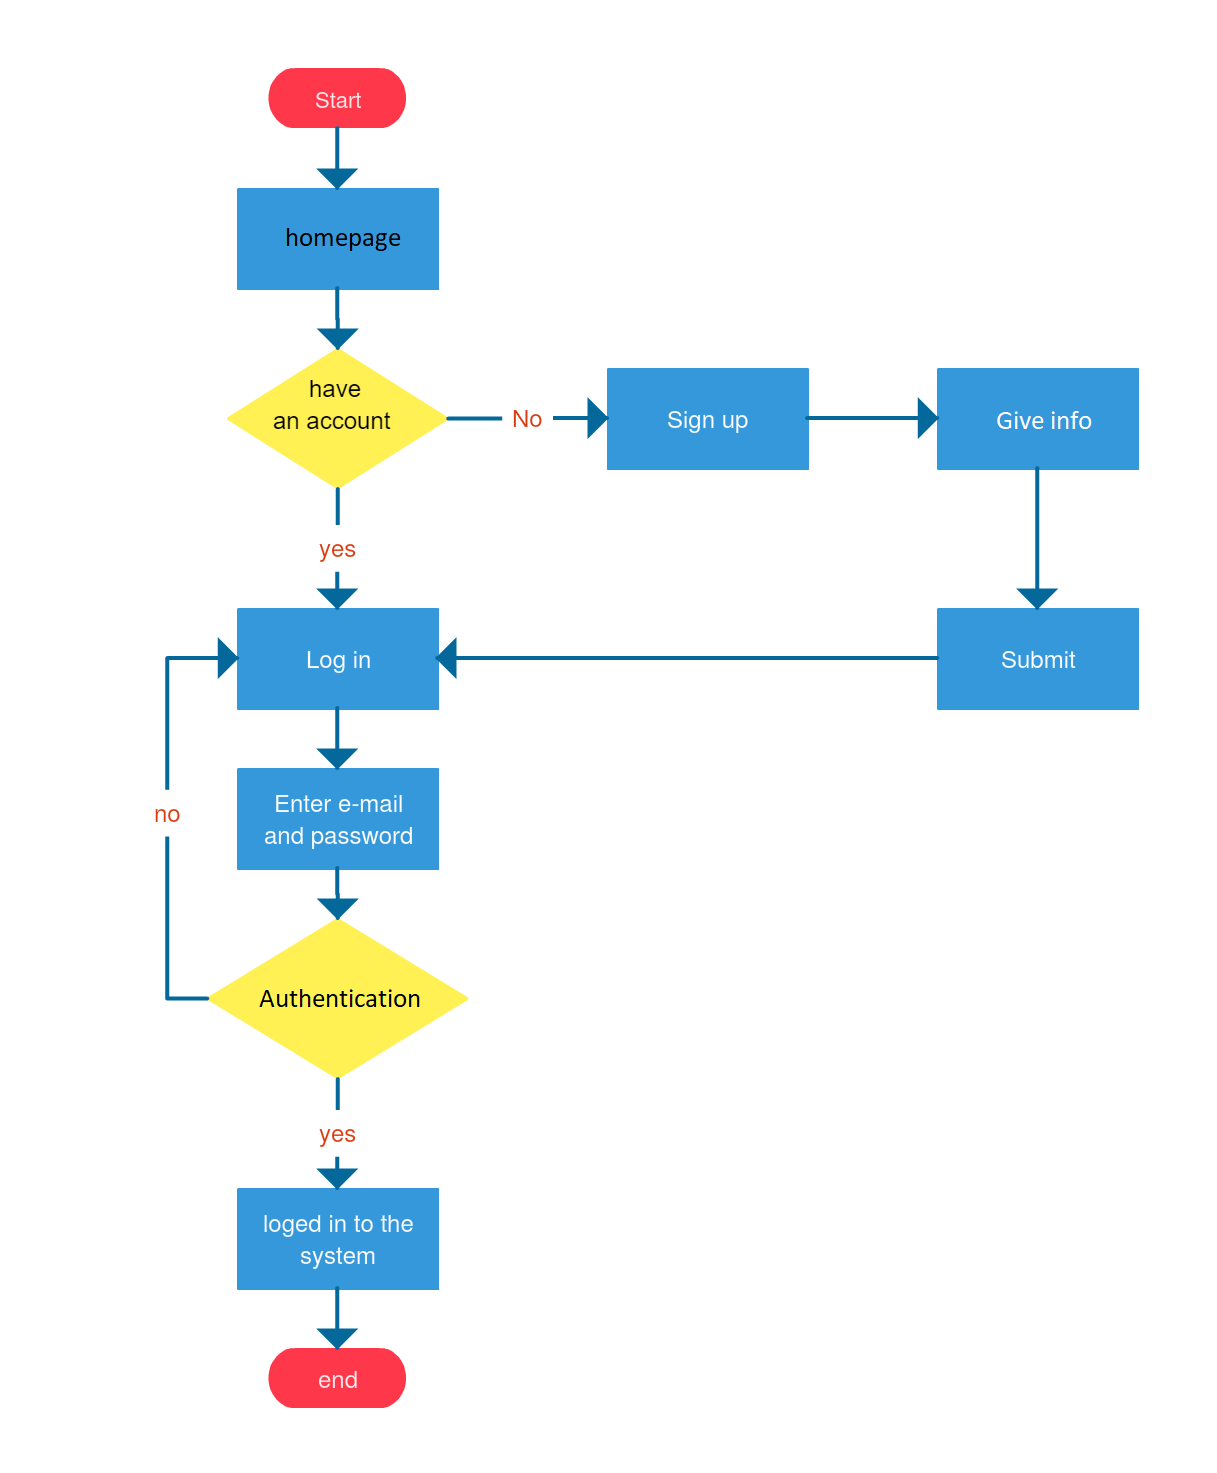arrow: (155, 636, 239, 1004), (432, 626, 941, 681), (439, 393, 614, 443), (807, 393, 950, 445), (1016, 464, 1064, 610), (312, 484, 362, 617), (312, 1075, 364, 1189), (314, 1285, 366, 1352), (314, 699, 362, 770), (316, 279, 362, 350), (312, 128, 364, 188), (314, 866, 362, 925)
decision: (205, 914, 473, 1084), (225, 345, 455, 493)
process: (601, 361, 819, 477), (232, 1179, 444, 1296), (232, 602, 446, 716), (930, 602, 1144, 716), (232, 184, 444, 299), (932, 361, 1144, 475), (232, 763, 446, 875)
terminator: (264, 61, 409, 135), (264, 1345, 412, 1415)
text: (259, 785, 420, 852), (259, 1209, 421, 1270), (272, 373, 396, 440), (248, 982, 421, 1018), (280, 223, 409, 257), (996, 404, 1098, 436), (664, 404, 755, 439), (996, 645, 1082, 675), (303, 645, 378, 677), (309, 84, 366, 114), (309, 1368, 366, 1395), (505, 403, 550, 434), (314, 1123, 362, 1150), (314, 536, 355, 566), (150, 803, 191, 829)
